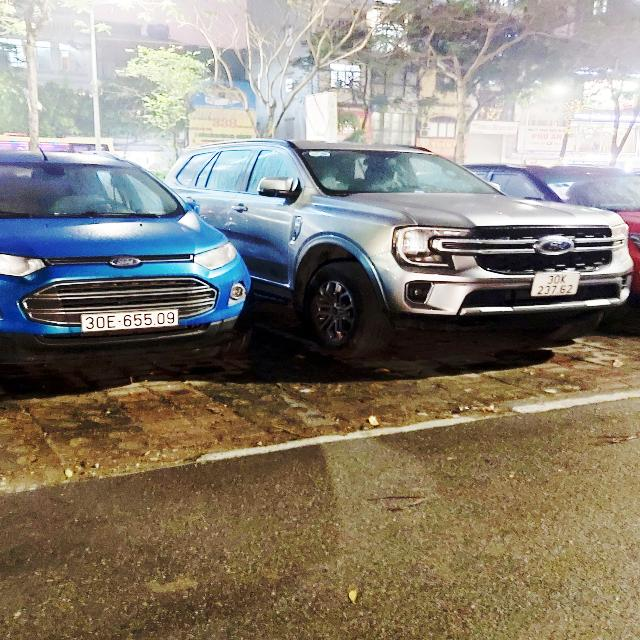license_plate: (82, 308, 181, 334), (528, 272, 586, 299)
